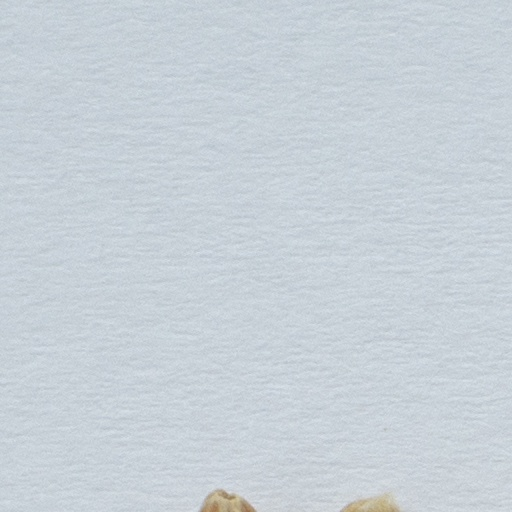Wheat-grain: (200, 490, 254, 511), (343, 496, 400, 511)
